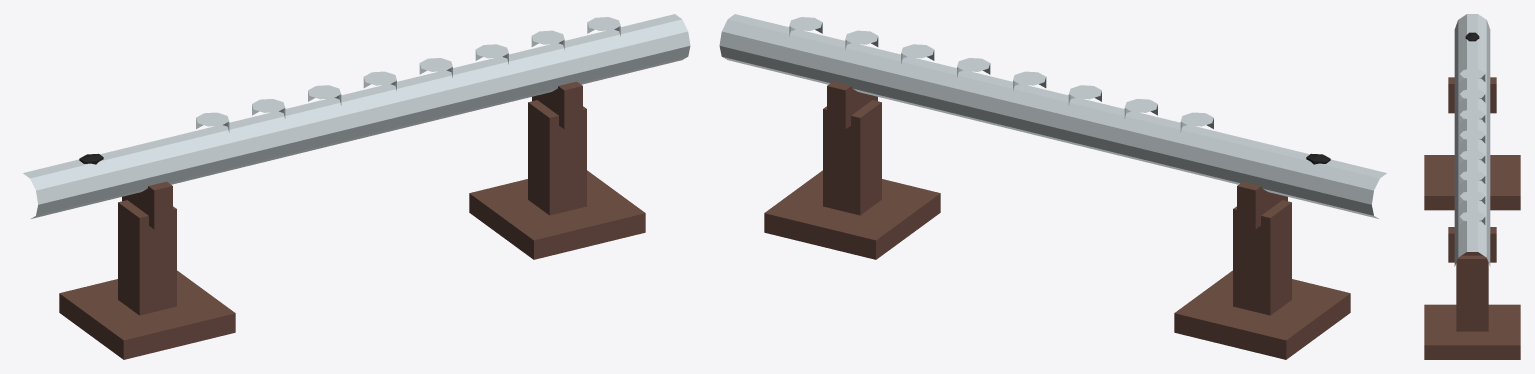
The model's file is flojt.glb.
The picture shows the model from 3 angles, left to right: view 1: azimuth 30°, elevation 25°; view 2: azimuth 150°, elevation 25°; view 3: azimuth 270°, elevation 25°; orthographic projection. The views are drawn at different scales.
Visible parts, largest first — view 1: flojt; view 2: flojt; view 3: flojt.
Part boxes in pixels (x1,y1,x2,y2): flojt: (23,14,690,359); flojt: (719,14,1386,359); flojt: (1424,14,1520,359).
Size of the model in its own units: 0.7 by 0.192 by 0.12.
